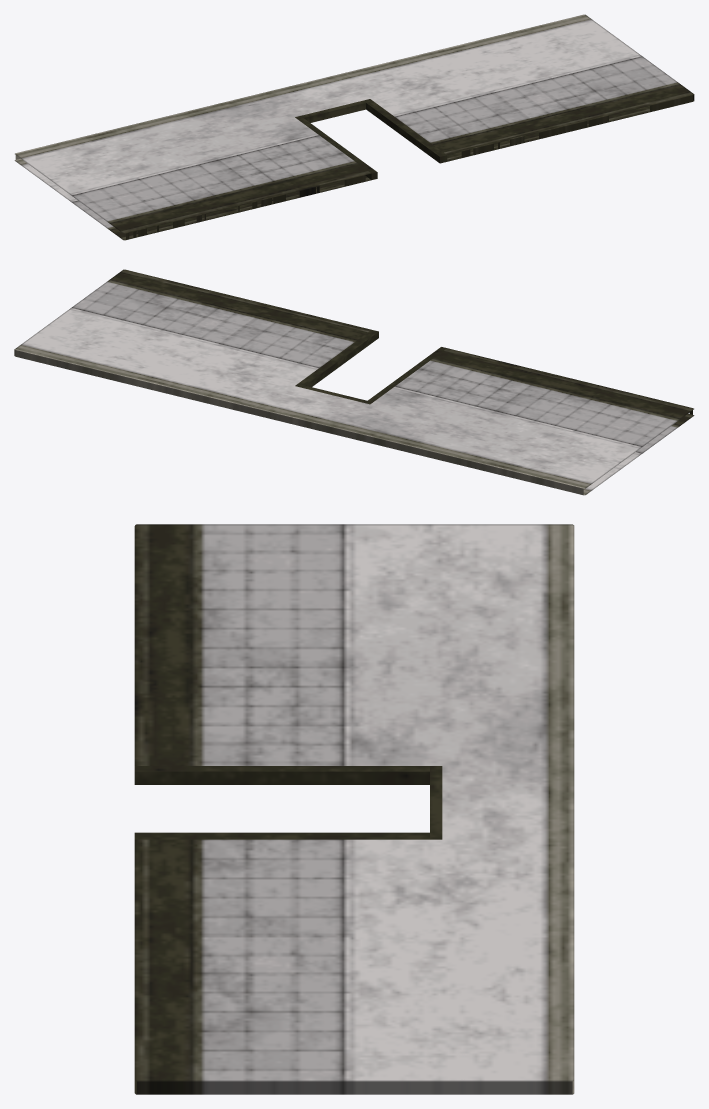
Rendered from SM_EC_House_Wall_DoorWay_9x3_7.fbx.
The picture shows the model from 3 angles, top to bottom: view 1: azimuth 30°, elevation 25°; view 2: azimuth 150°, elevation 25°; view 3: azimuth 270°, elevation 25°; orthographic projection. The views are drawn at different scales.
Parts seen in each view (by area): view 1: SM_EC_House_Wall_DoorWay_9x3_7; view 2: SM_EC_House_Wall_DoorWay_9x3_7; view 3: SM_EC_House_Wall_DoorWay_9x3_7.
Boxes of the visible parts, box(x1,y1,x2,y2) form: SM_EC_House_Wall_DoorWay_9x3_7: box(14, 14, 694, 240); SM_EC_House_Wall_DoorWay_9x3_7: box(14, 269, 694, 495); SM_EC_House_Wall_DoorWay_9x3_7: box(134, 524, 574, 1094).
Bounding box in the file's own units: 9 × 3 × 0.1.
